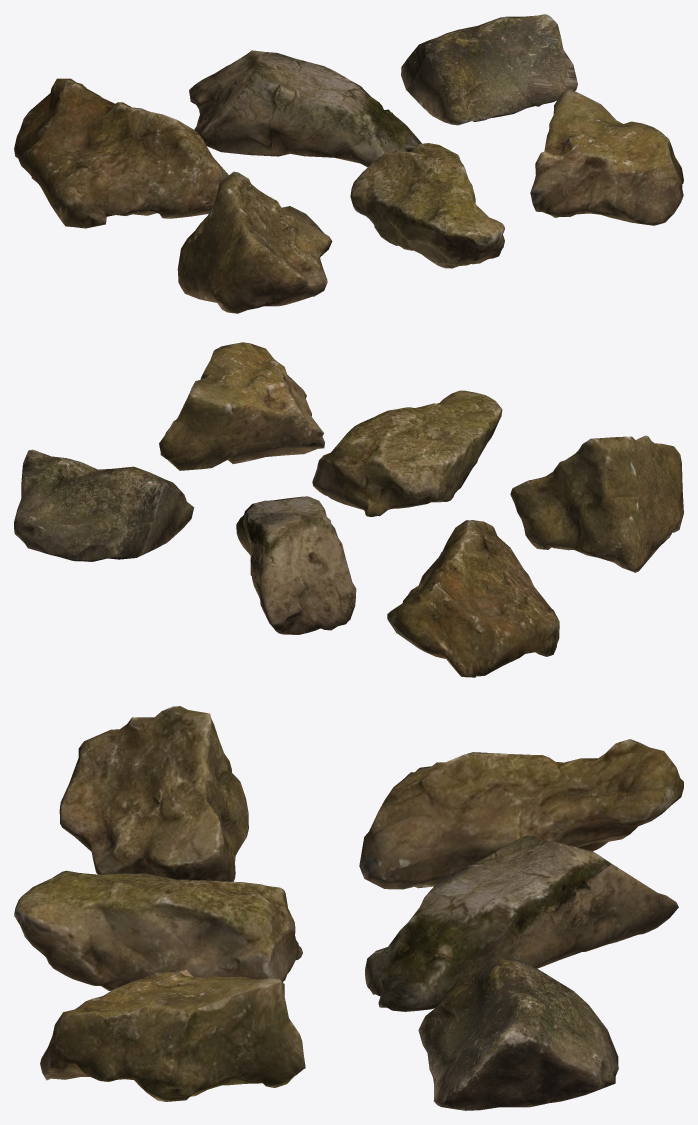
File: rock_moss_set_01.glb
3 renders of one model, top to bottom at view 1: azimuth 30°, elevation 25°; view 2: azimuth 150°, elevation 25°; view 3: azimuth 270°, elevation 25°, orthographic. The views are drawn at different scales.
Visible parts, largest first — view 1: rock_moss_set_01_rock01, rock_moss_set_01_rock02, rock_moss_set_01_rock06, rock_moss_set_01_rock04, rock_moss_set_01_rock03, rock_moss_set_01_rock05; view 2: rock_moss_set_01_rock04, rock_moss_set_01_rock01, rock_moss_set_01_rock05, rock_moss_set_01_rock03, rock_moss_set_01_rock06, rock_moss_set_01_rock02; view 3: rock_moss_set_01_rock01, rock_moss_set_01_rock02, rock_moss_set_01_rock05, rock_moss_set_01_rock04, rock_moss_set_01_rock06, rock_moss_set_01_rock03.
Part boxes in pixels (x1,y1,x2,y2): rock_moss_set_01_rock01: (14, 78, 228, 228); rock_moss_set_01_rock02: (189, 50, 421, 167); rock_moss_set_01_rock06: (530, 88, 683, 225); rock_moss_set_01_rock04: (177, 171, 332, 313); rock_moss_set_01_rock03: (401, 14, 577, 125); rock_moss_set_01_rock05: (350, 143, 504, 268); rock_moss_set_01_rock04: (510, 435, 683, 572); rock_moss_set_01_rock01: (387, 520, 559, 677); rock_moss_set_01_rock05: (312, 390, 502, 516); rock_moss_set_01_rock03: (14, 449, 194, 561); rock_moss_set_01_rock06: (159, 342, 324, 470); rock_moss_set_01_rock02: (236, 496, 356, 634); rock_moss_set_01_rock01: (359, 739, 683, 889); rock_moss_set_01_rock02: (365, 835, 678, 1011); rock_moss_set_01_rock05: (14, 870, 302, 990); rock_moss_set_01_rock04: (59, 706, 248, 881); rock_moss_set_01_rock06: (40, 969, 305, 1101); rock_moss_set_01_rock03: (418, 958, 618, 1110).
Bounding box in the file's own units: 8 × 1.76 × 6.94.
1 material, 1 textured.
